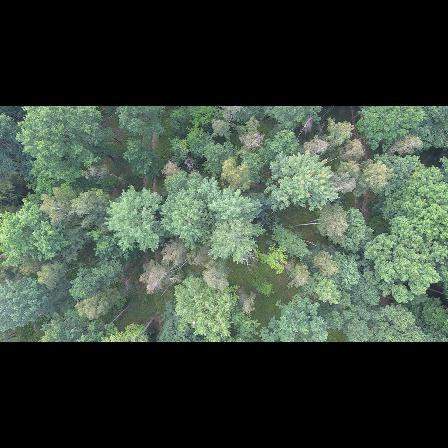Dead: (242, 132, 268, 152)
